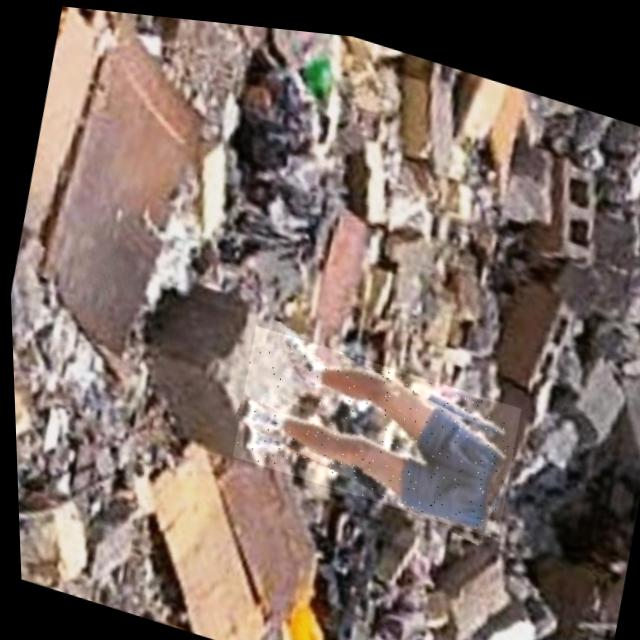Person in Rubble: (224, 317, 521, 531)
